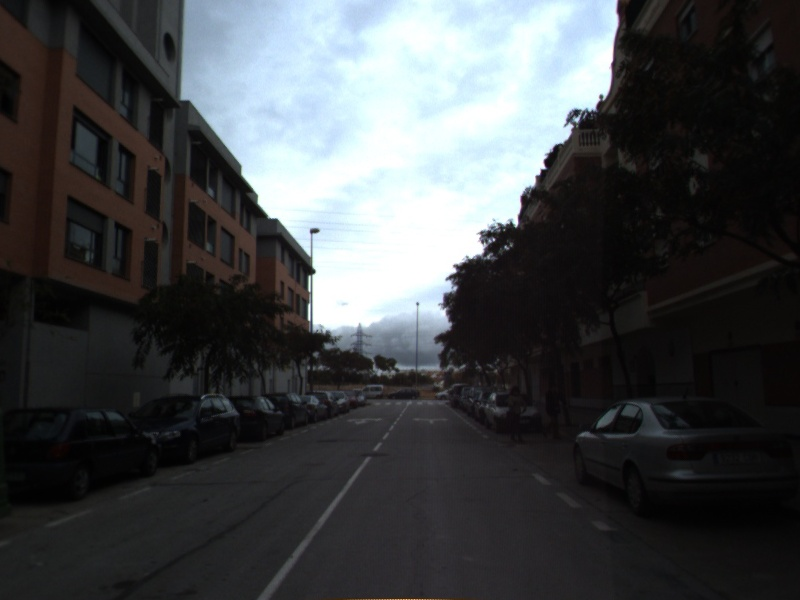LEFT_RIGHT: (410, 415, 452, 426)
